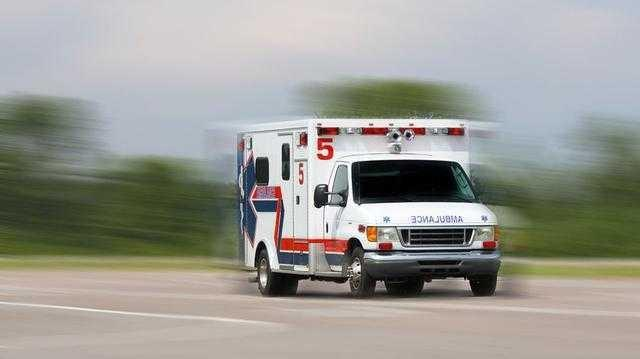car: (233, 116, 504, 297)
